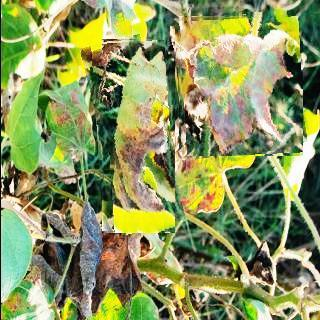blight: (90, 37, 174, 233)
curl: (173, 12, 302, 156)
